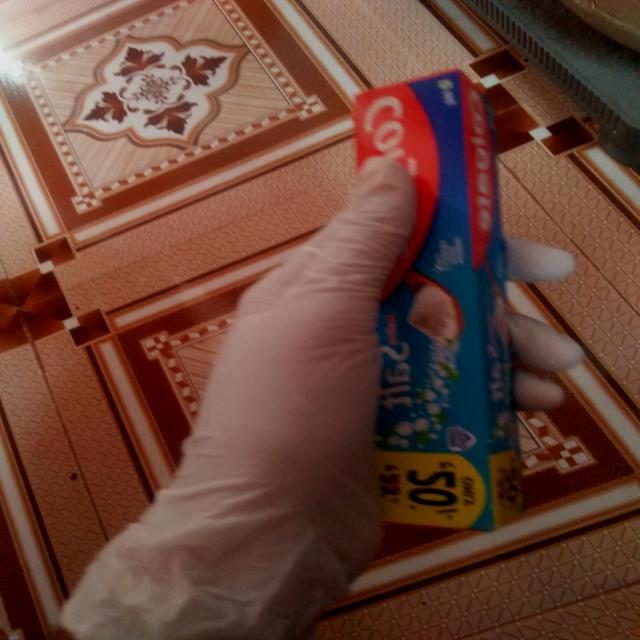glove: (43, 155, 594, 637)
